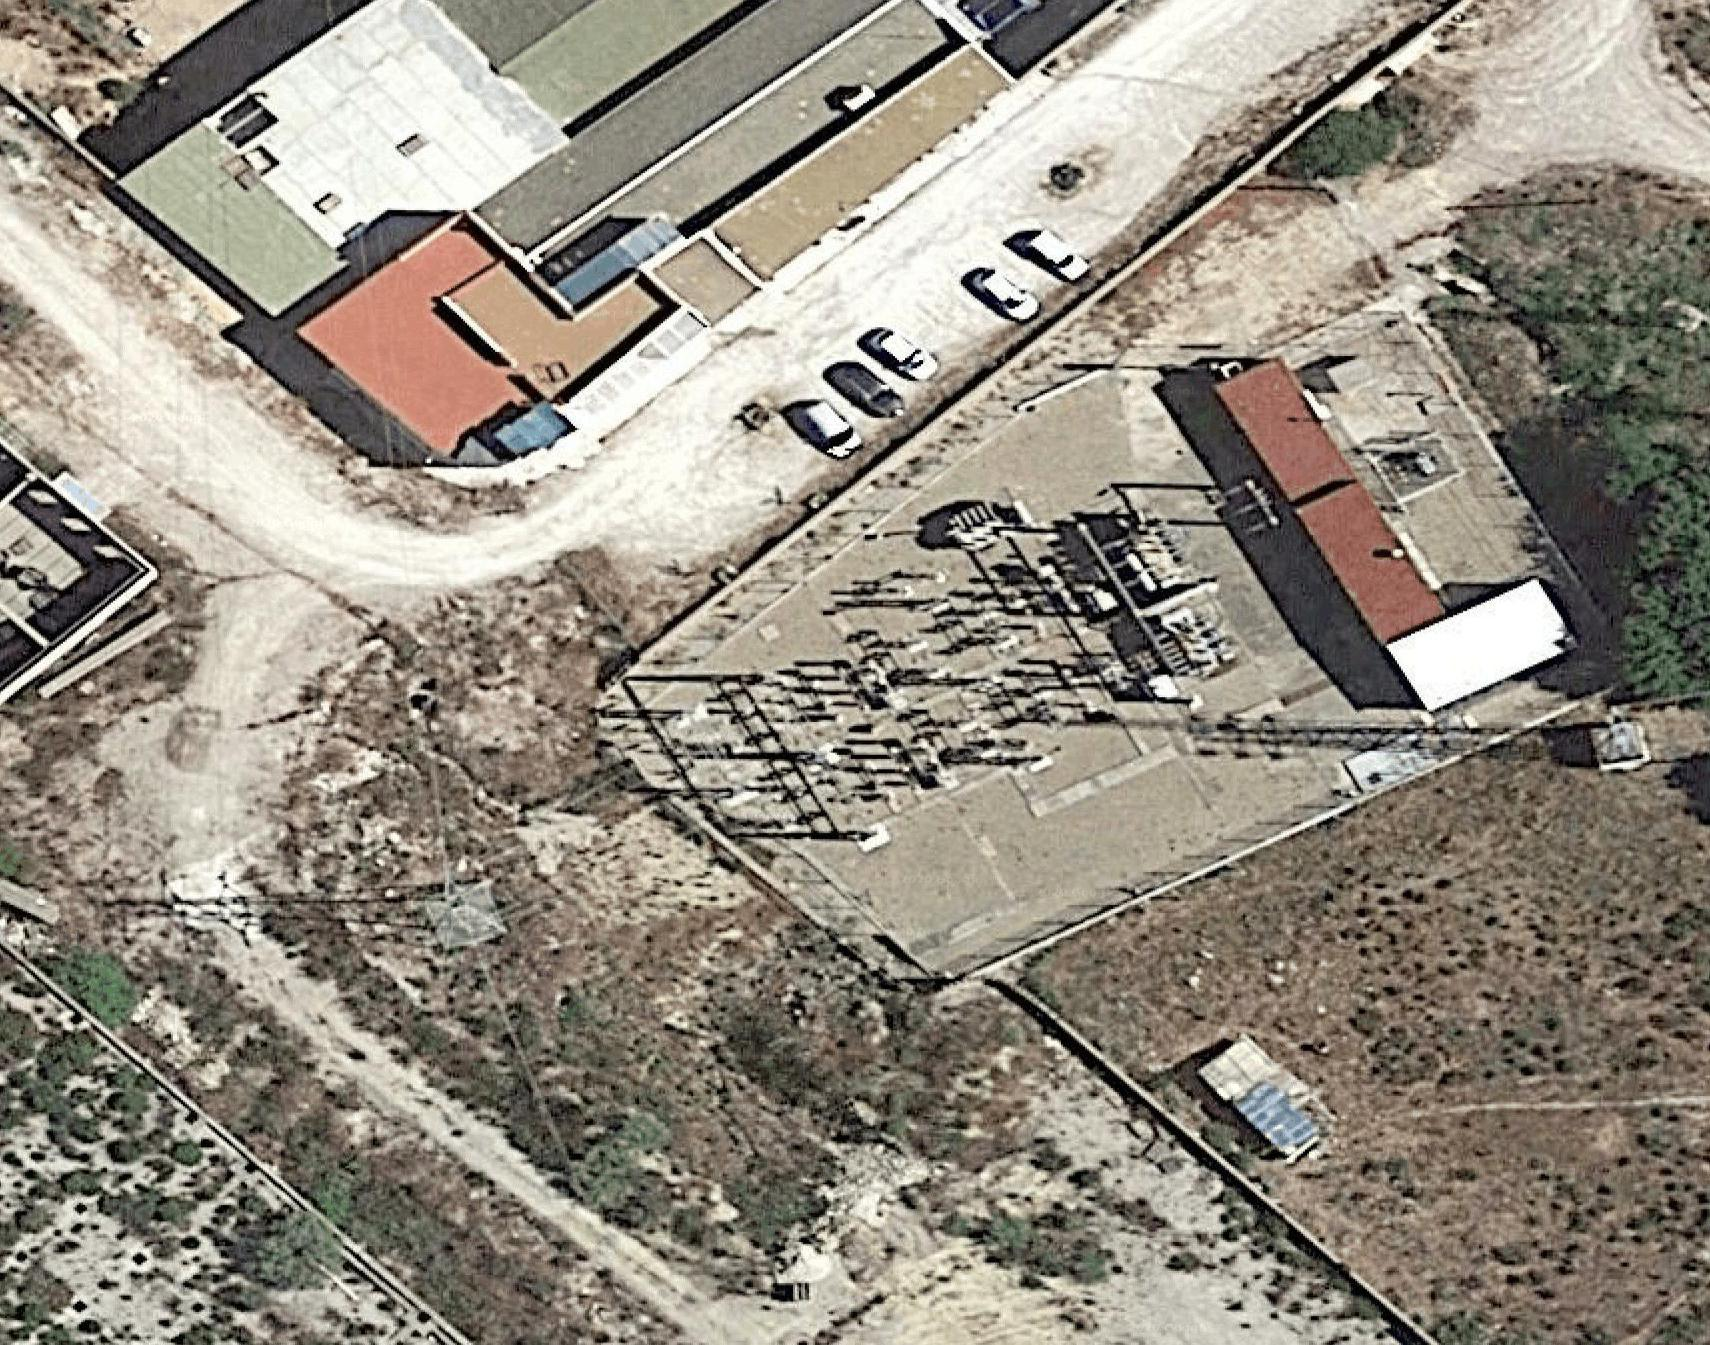substation: (584, 476, 1287, 873)
